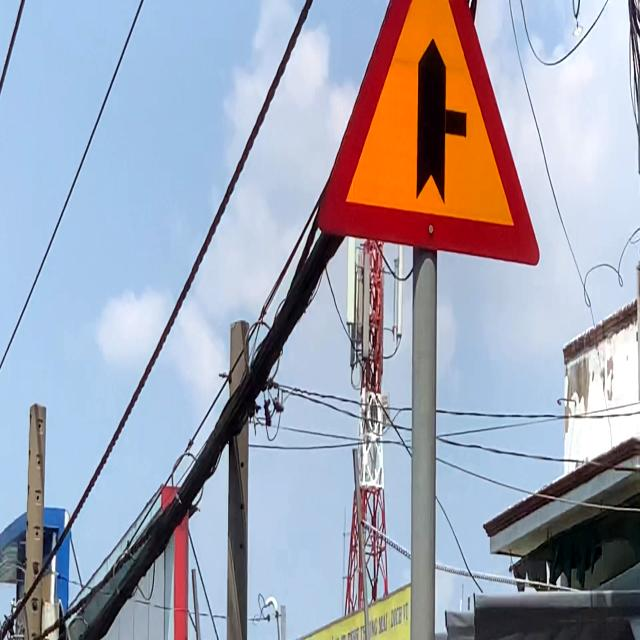W.207b: (314, 0, 543, 274)
